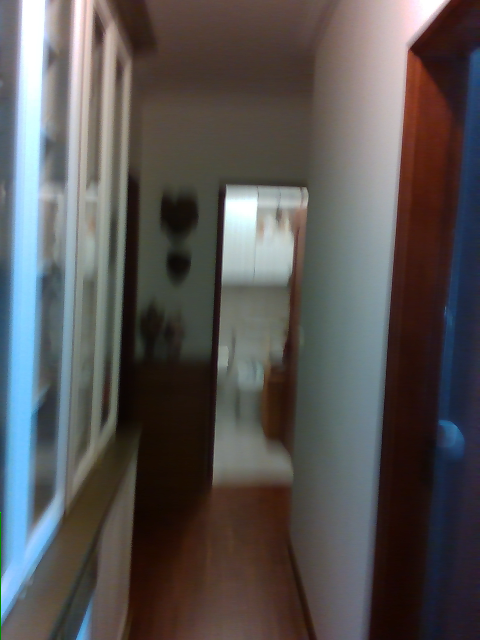open: (213, 183, 310, 476)
